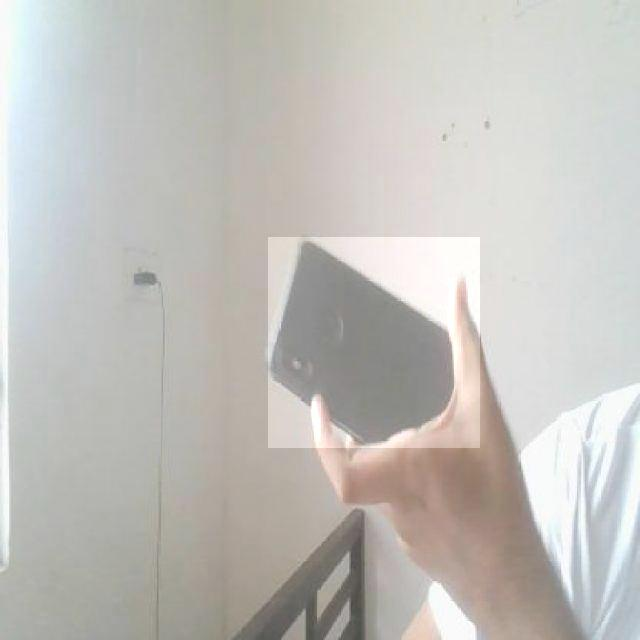lens: (291, 316, 336, 374)
phone: (268, 237, 481, 448)
